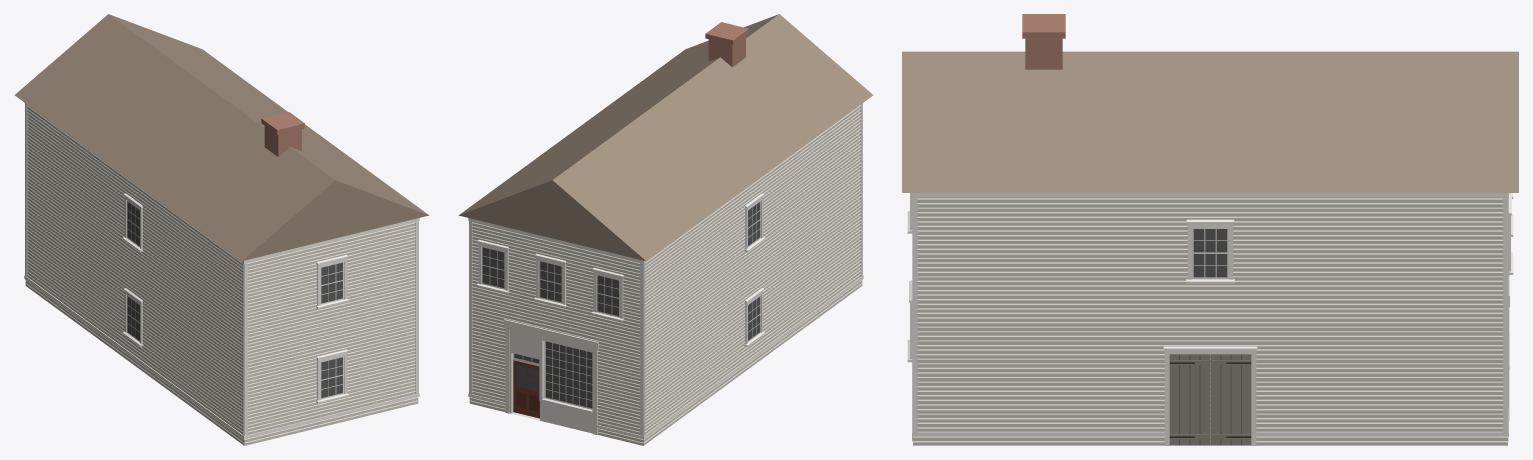
The model's file is recon_1835_core_c3_026__inferred_1835.glb.
3 views of the same model, side by side, from view 1: azimuth 30°, elevation 25°; view 2: azimuth 150°, elevation 25°; view 3: azimuth 270°, elevation 25° (orthographic). The views are drawn at different scales.
Visible parts, largest first — view 1: recon_1835_core_c3_026__inferred_1835; view 2: recon_1835_core_c3_026__inferred_1835; view 3: recon_1835_core_c3_026__inferred_1835.
Boxes of the visible parts, left/top/right/bottom form: recon_1835_core_c3_026__inferred_1835: left=14, top=14, right=429, bottom=445; recon_1835_core_c3_026__inferred_1835: left=458, top=14, right=873, bottom=445; recon_1835_core_c3_026__inferred_1835: left=902, top=14, right=1518, bottom=445.
Size of the model in its own units: 6.66 by 9.08 by 13.92.
